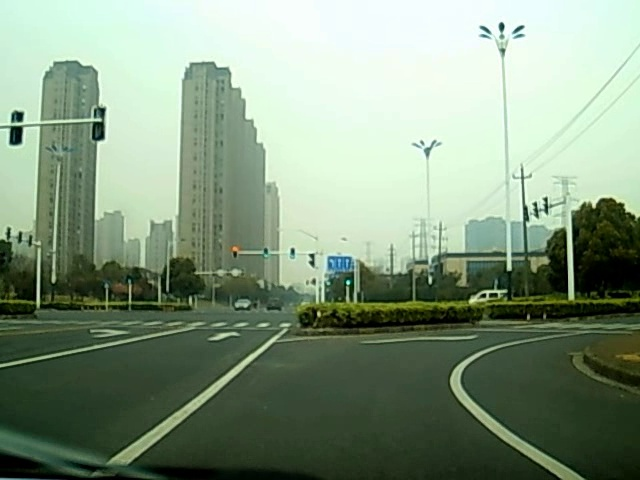Traffic_Light_go: (343, 276, 351, 287), (290, 248, 296, 260), (263, 248, 269, 259)
Traffic_Light_stop: (232, 244, 239, 259)
